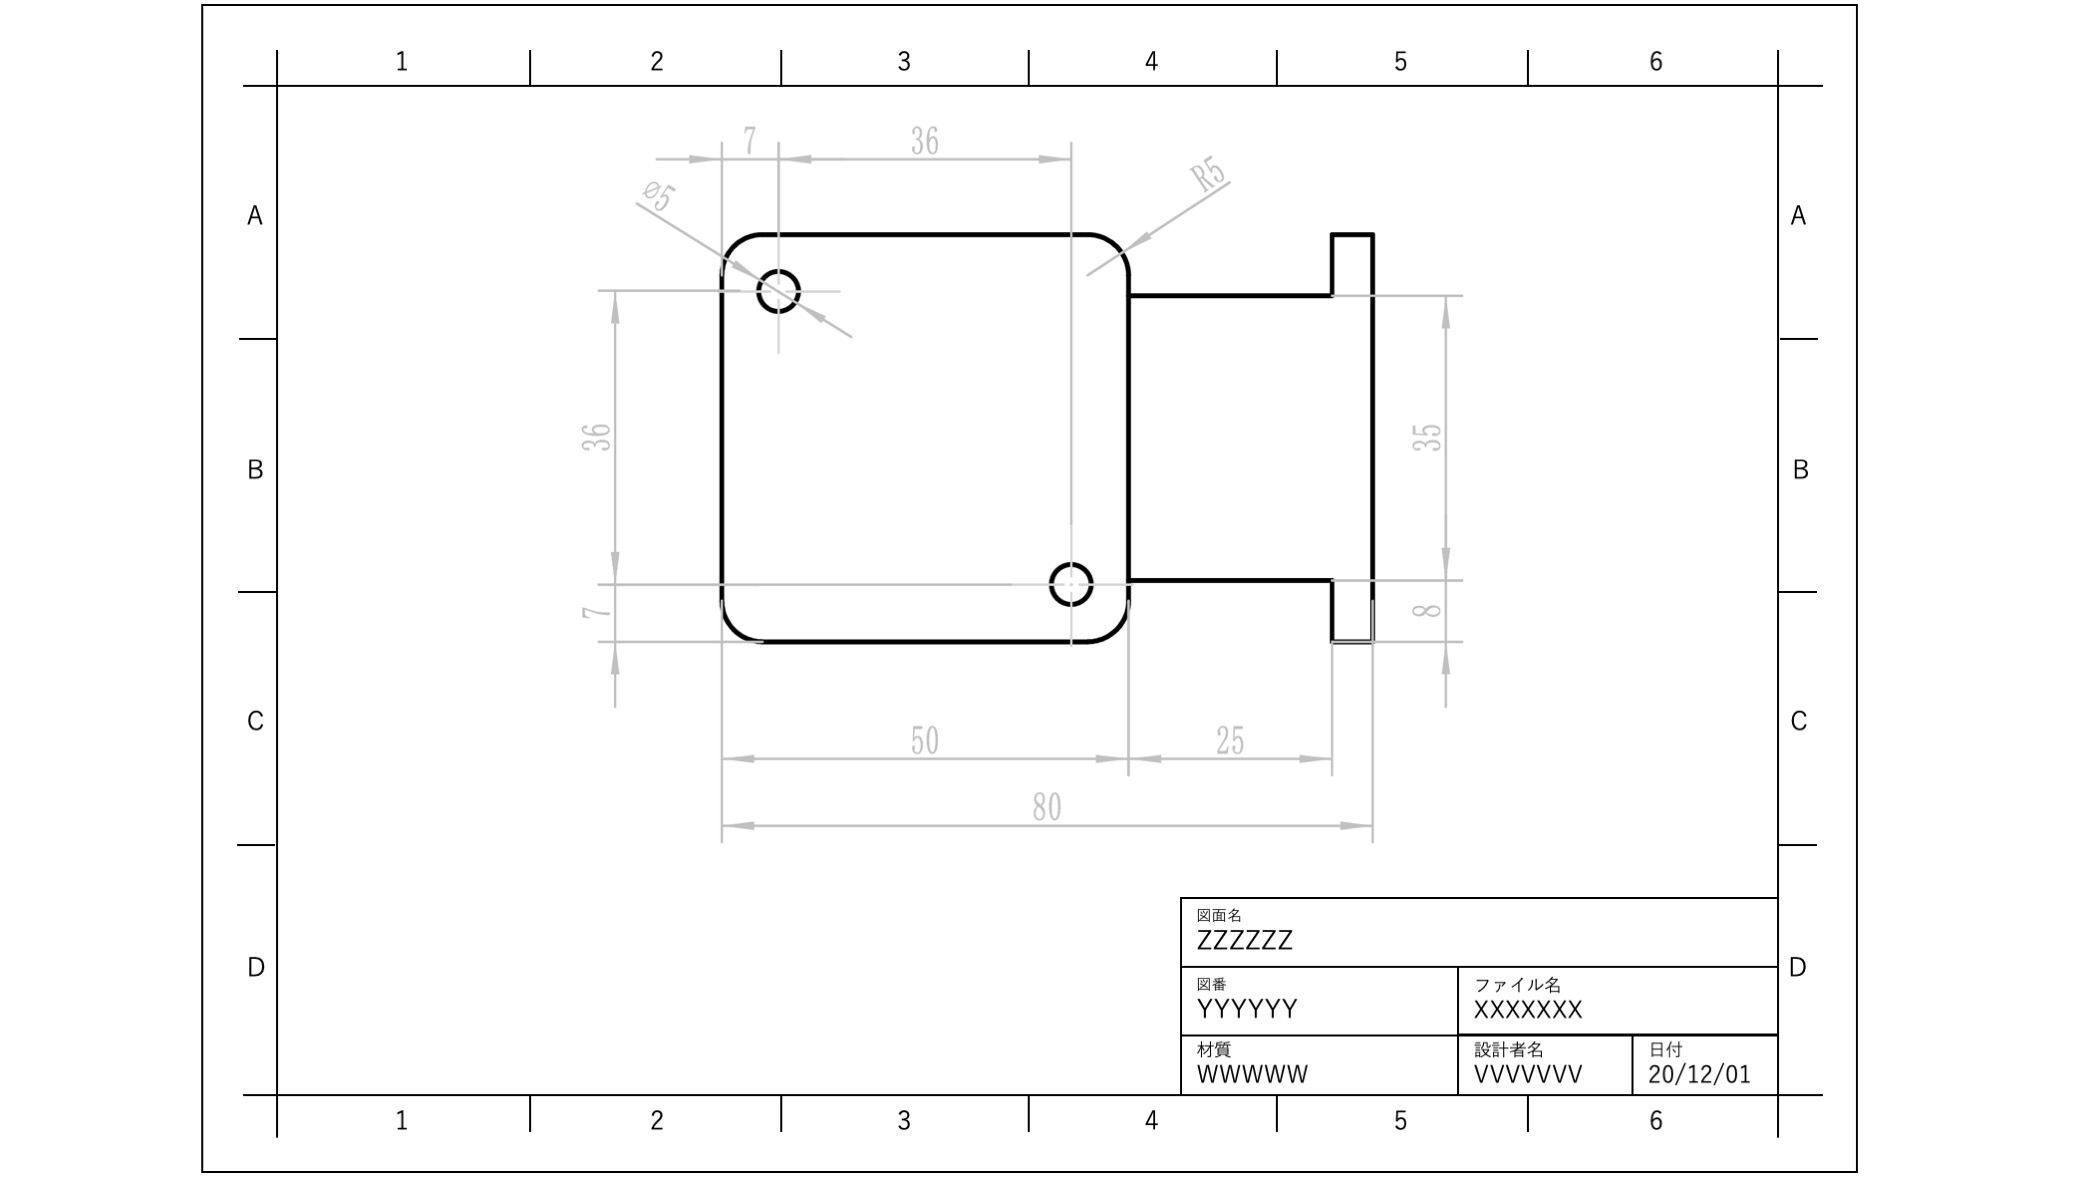circle: (749, 265, 813, 324), (1044, 554, 1099, 614)
